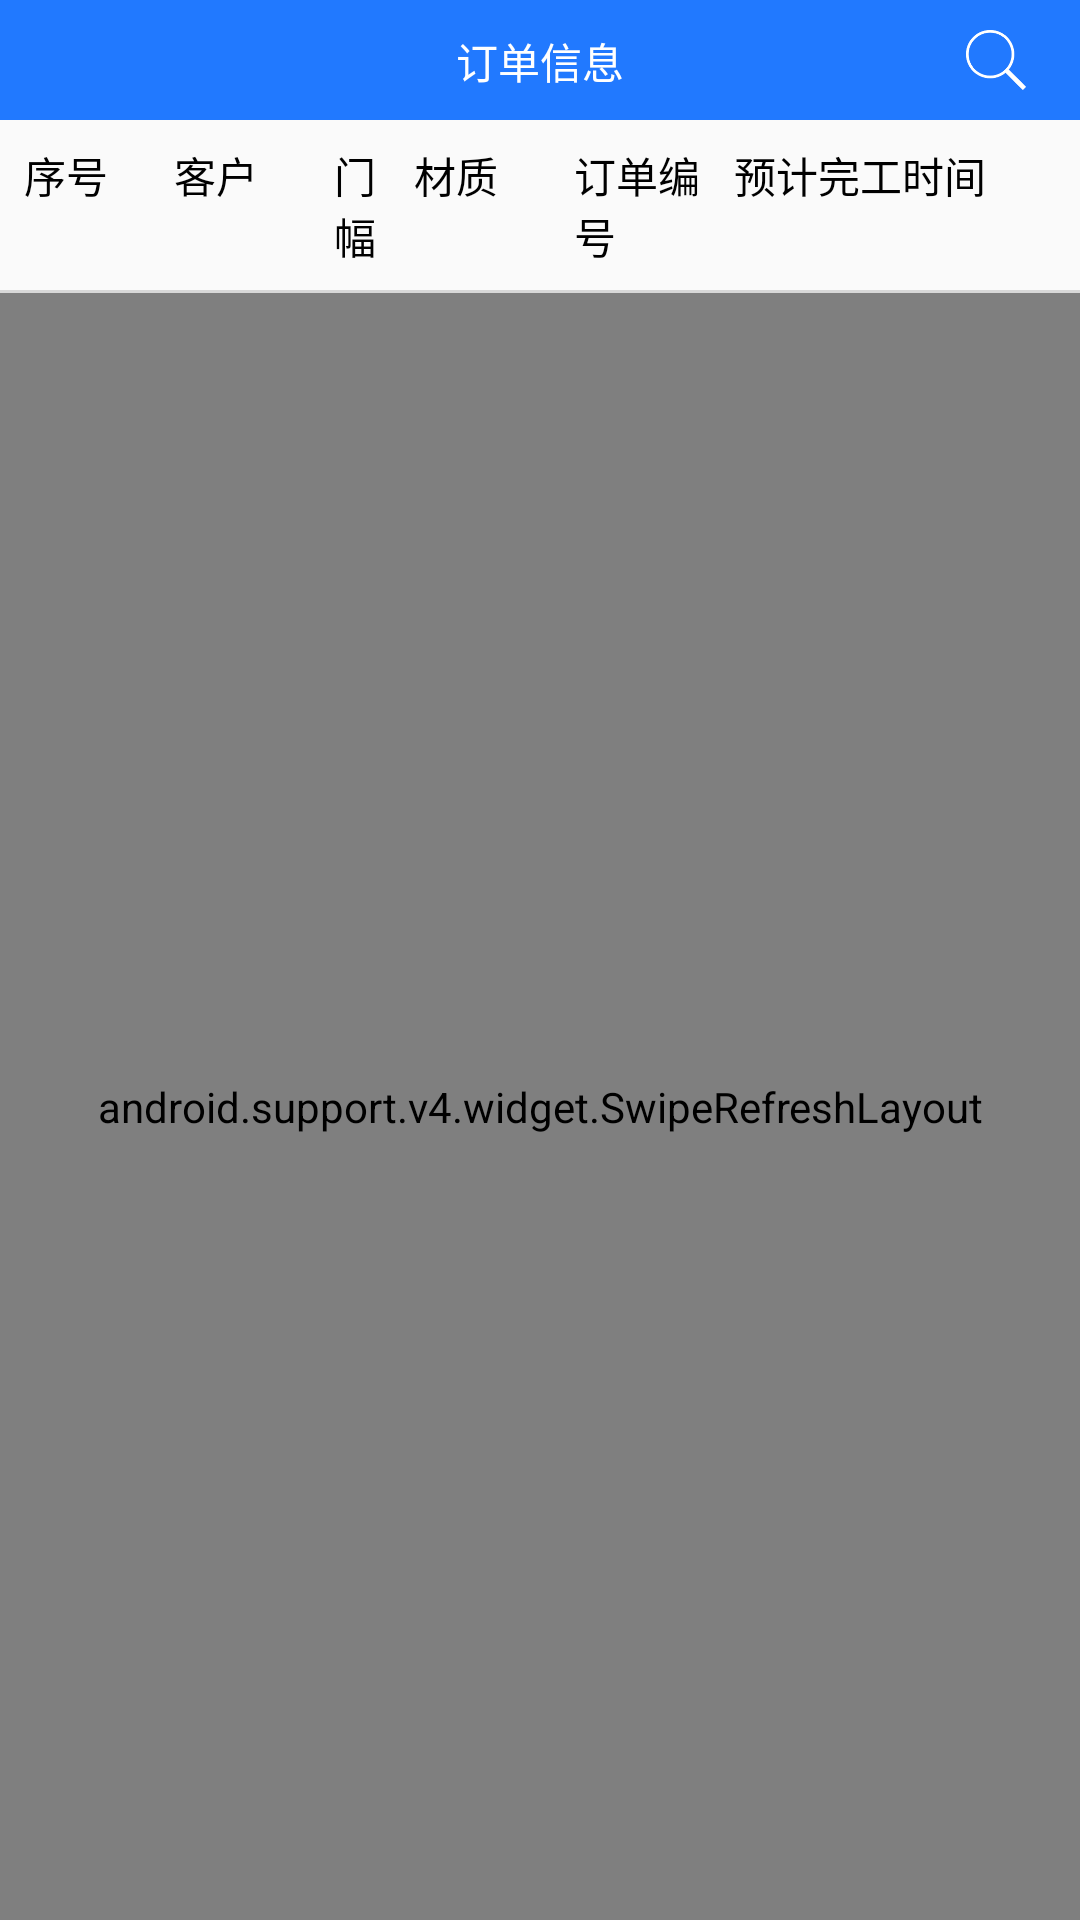

Icon bounding boxes for this 1080px×1920px phone screenshot, format bbox(x1, y1, x2, y2):
search: bbox(966, 30, 1026, 90)
